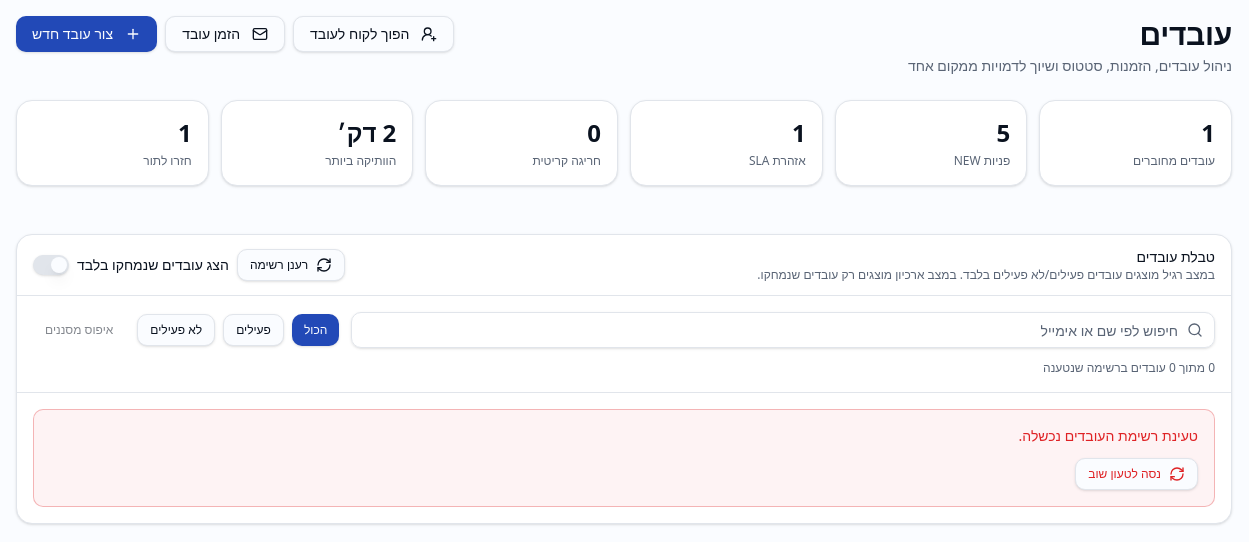
Test: admin operator workspace › shows an initial list error and retries the same identity-scoped read
Expected: the message named "שגיאת טעינת רשימת העובדים" does not show "private list failure", [33,409,1215,507]
Click the button "נסה לטעון שוב" at (1137, 474), box [1075,458,1198,490]
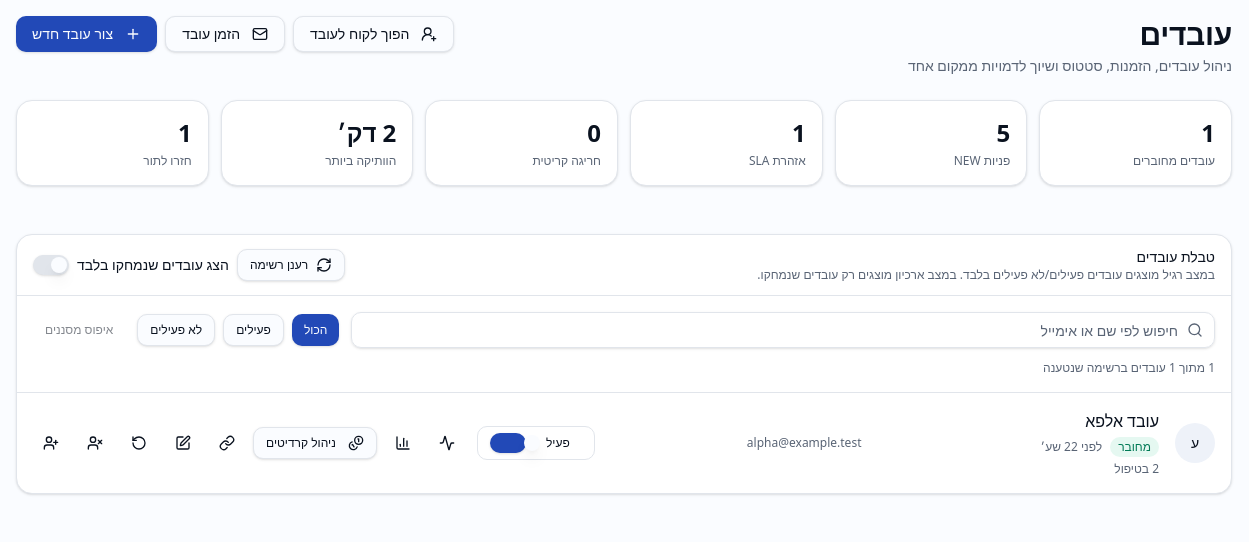
Expected: the text "עובד אלפא" is shown, [1085,410,1159,432]
